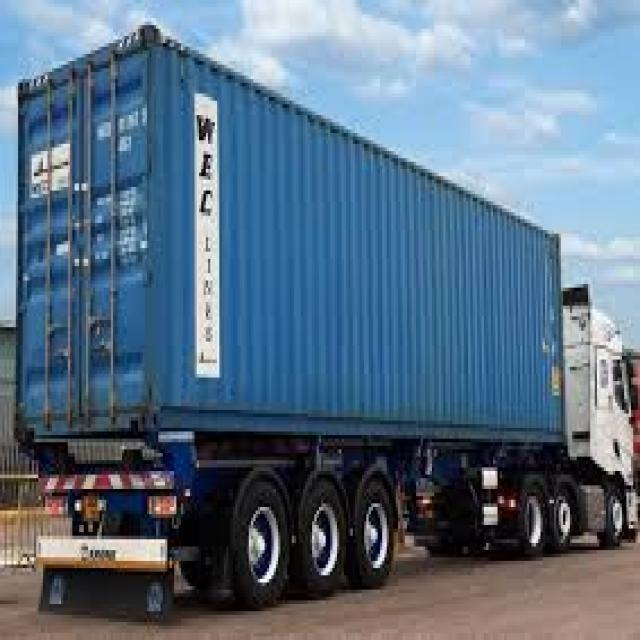covered: (11, 18, 638, 608)
